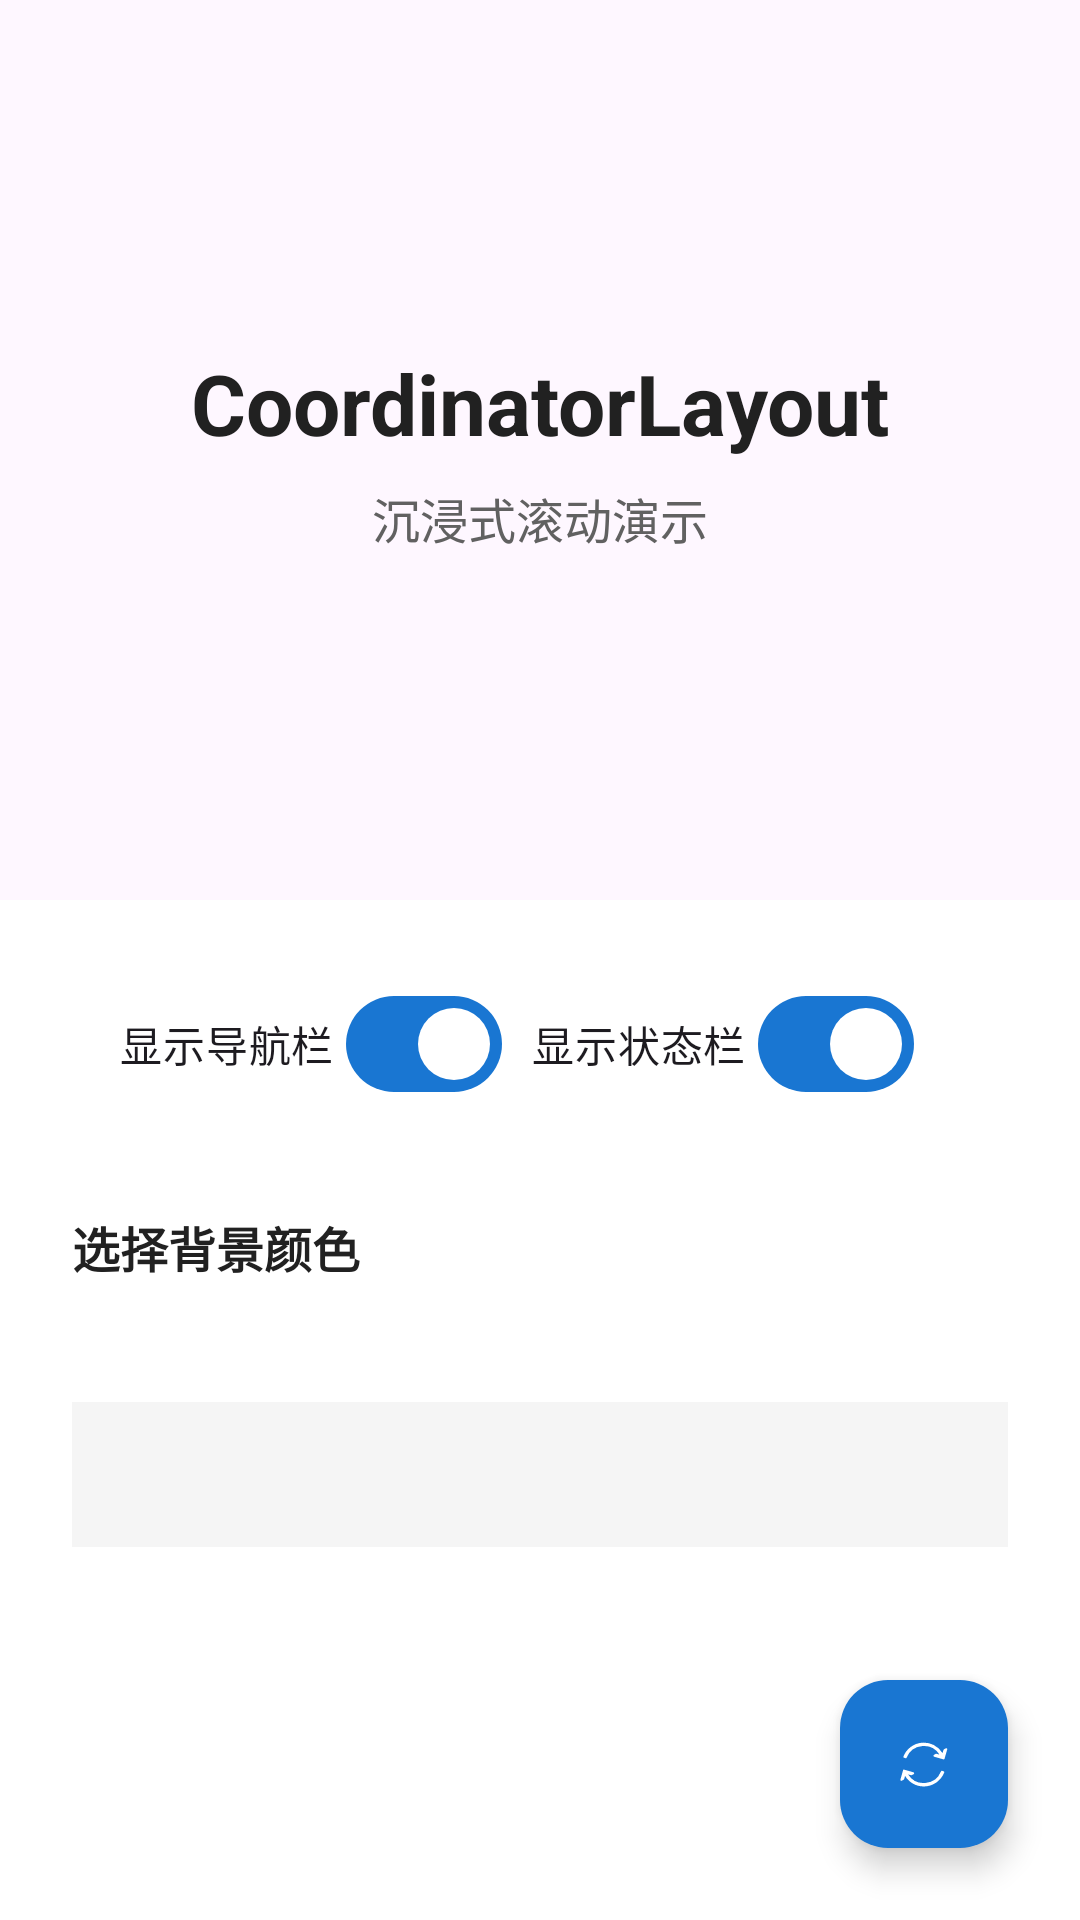

Where icons sit on this 1080w x 1920h app screen, as (x1, y1, x2, y2):
随机颜色: (840, 1680, 1008, 1848)
